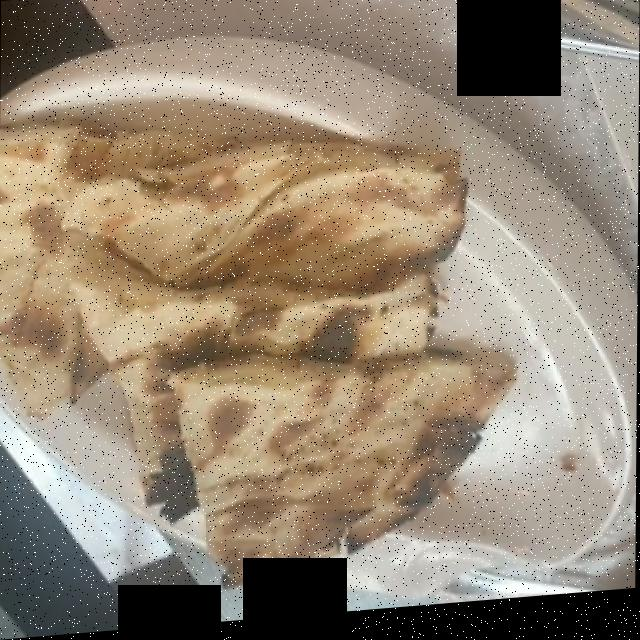bread-pita: (5, 130, 505, 560)
